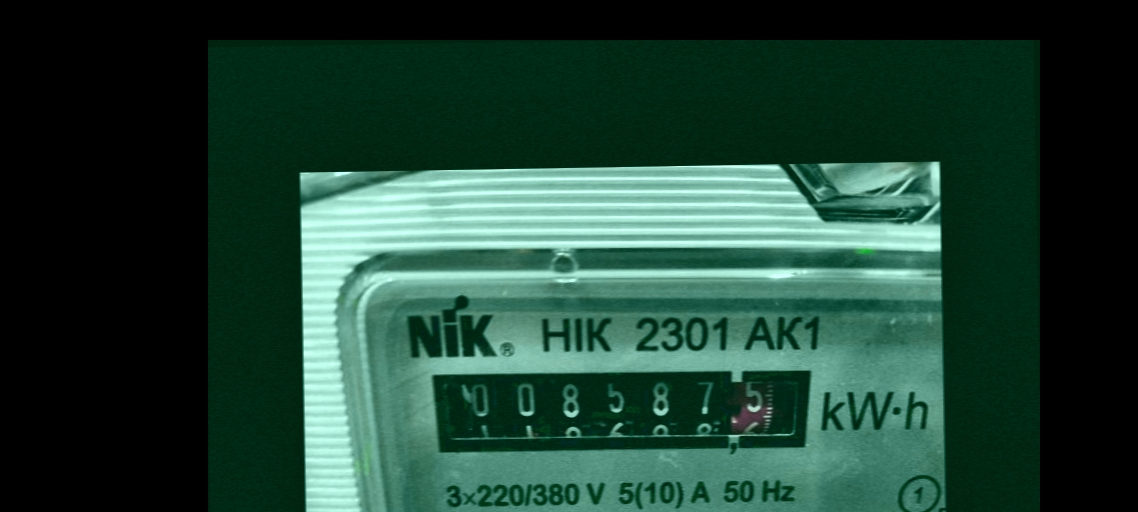0: (513, 379, 538, 420)
1: (467, 380, 492, 421)
5: (742, 376, 767, 417), (604, 379, 628, 417)
7: (693, 378, 717, 419)
8: (557, 380, 583, 422), (649, 379, 671, 420)
screen: (412, 349, 832, 475)
